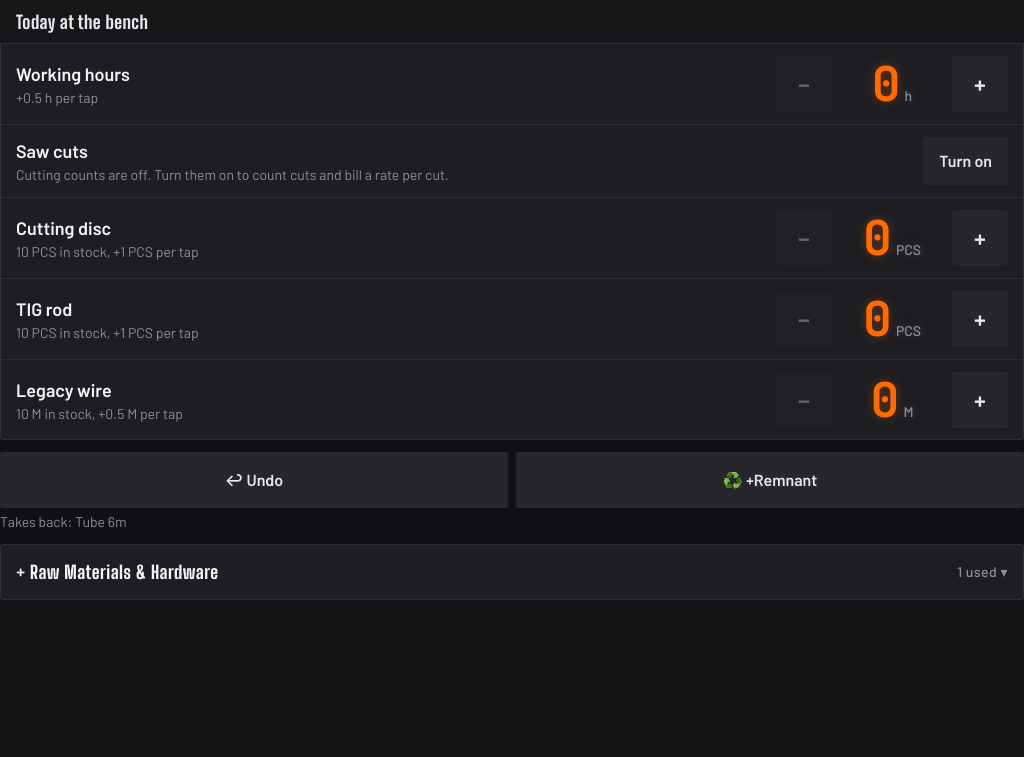
Test: +Remnant › is disabled once the only cut has been returned
Click the button "♻️ +Remnant". click: (770, 480)
box: [516,452,1023,508]
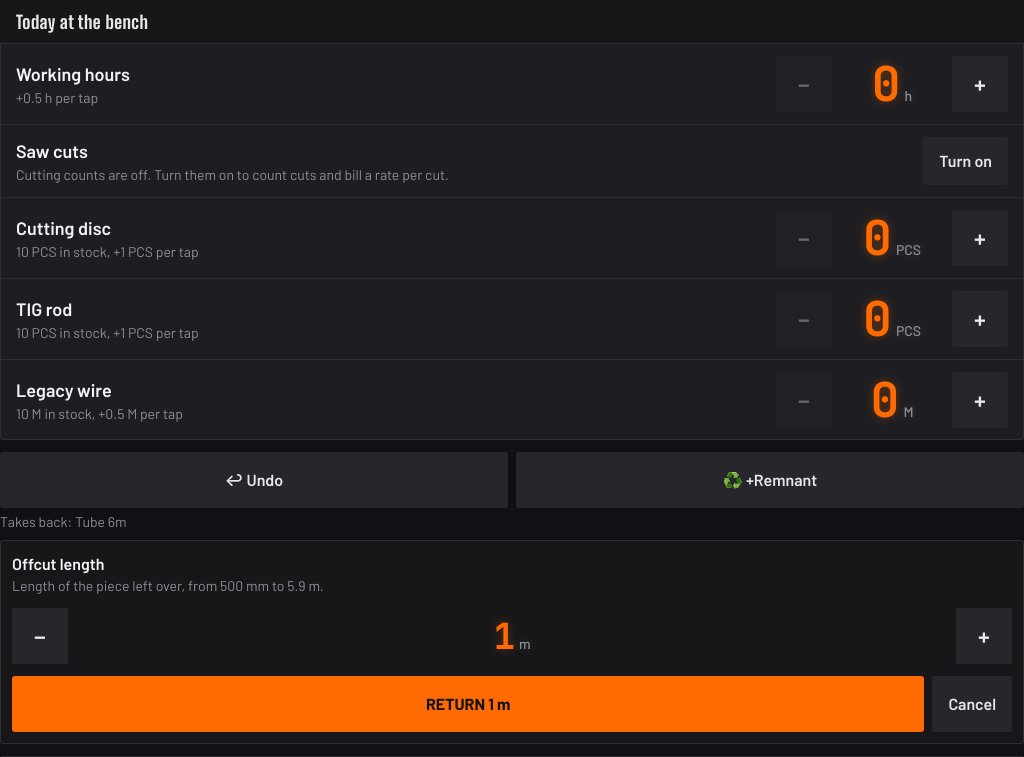
Click the button "RETURN 1 m". click: (468, 704)
box: [12,676,924,732]
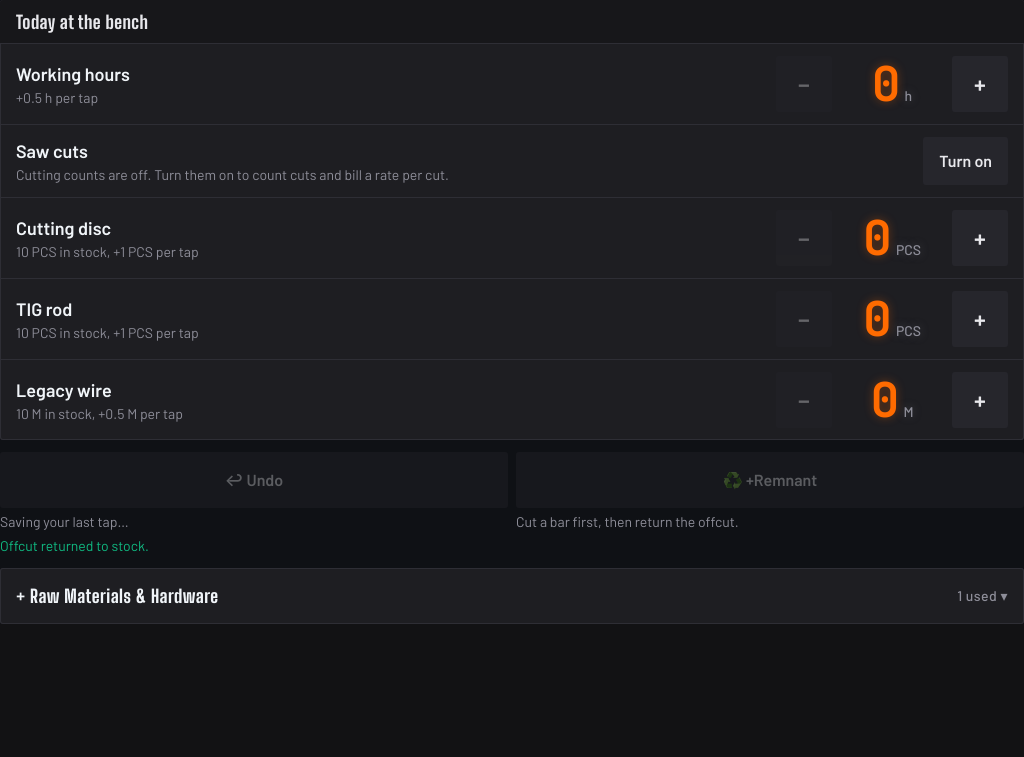
Expected: the button "♻️ +Remnant" is disabled, [516,452,1023,508]
